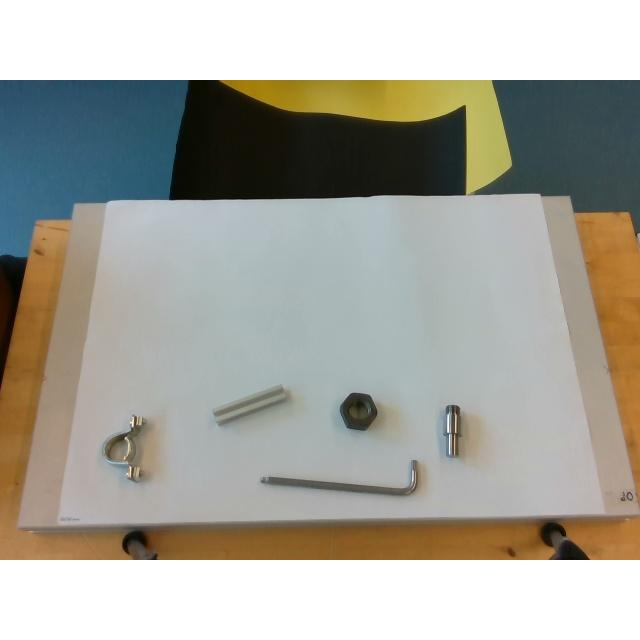AllenKey: (259, 459, 416, 495)
Axis2: (444, 404, 461, 456)
F20_20_G: (212, 385, 288, 423)
Housing: (102, 414, 146, 482)
M30: (339, 394, 377, 431)
